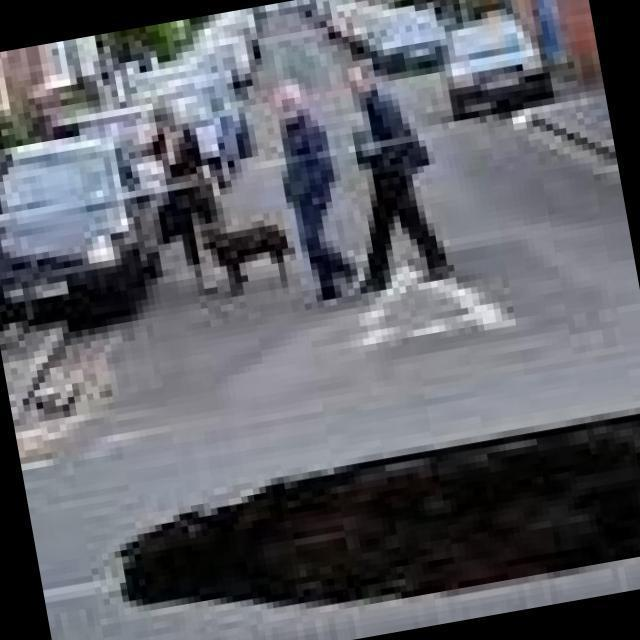Pothole: (114, 413, 640, 612)
